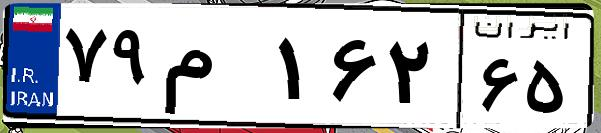1: (270, 28, 330, 110)
2: (385, 28, 445, 110)
5: (525, 38, 570, 115)
6: (330, 28, 385, 110), (475, 38, 525, 113)
7: (57, 26, 110, 100)
9: (110, 28, 158, 98)
م: (158, 20, 270, 120)
